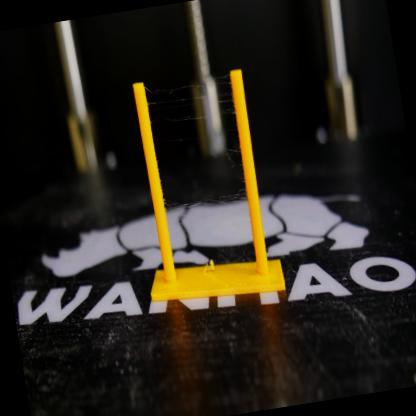fail: (145, 76, 240, 155), (211, 147, 249, 207)
